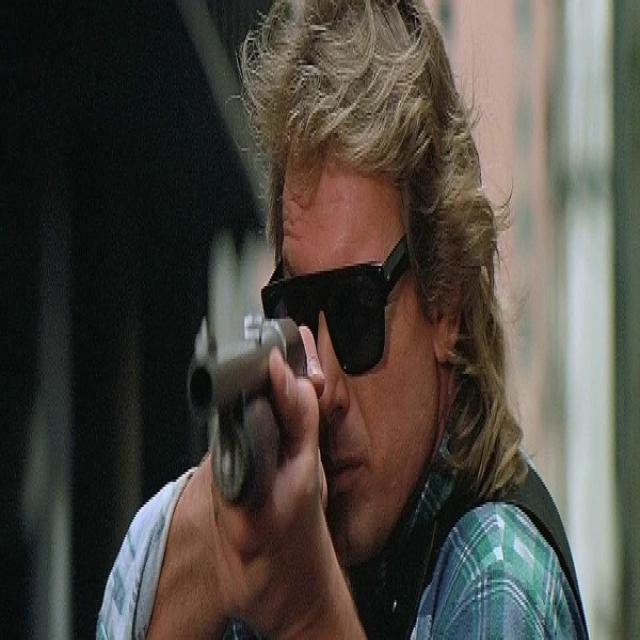rifle: (184, 307, 306, 508)
